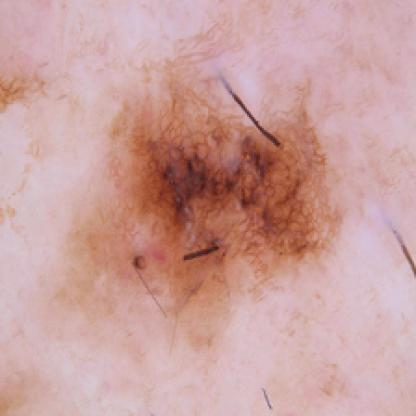Skin_Cancer-Malignant: (84, 65, 344, 309)
